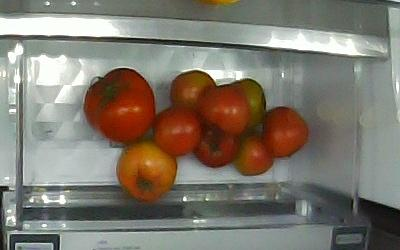tomato: (82, 67, 154, 143), (117, 142, 176, 202), (262, 106, 310, 160), (199, 87, 250, 137), (152, 107, 201, 155), (170, 70, 221, 111), (193, 128, 242, 168), (230, 134, 274, 176), (236, 78, 269, 130)
